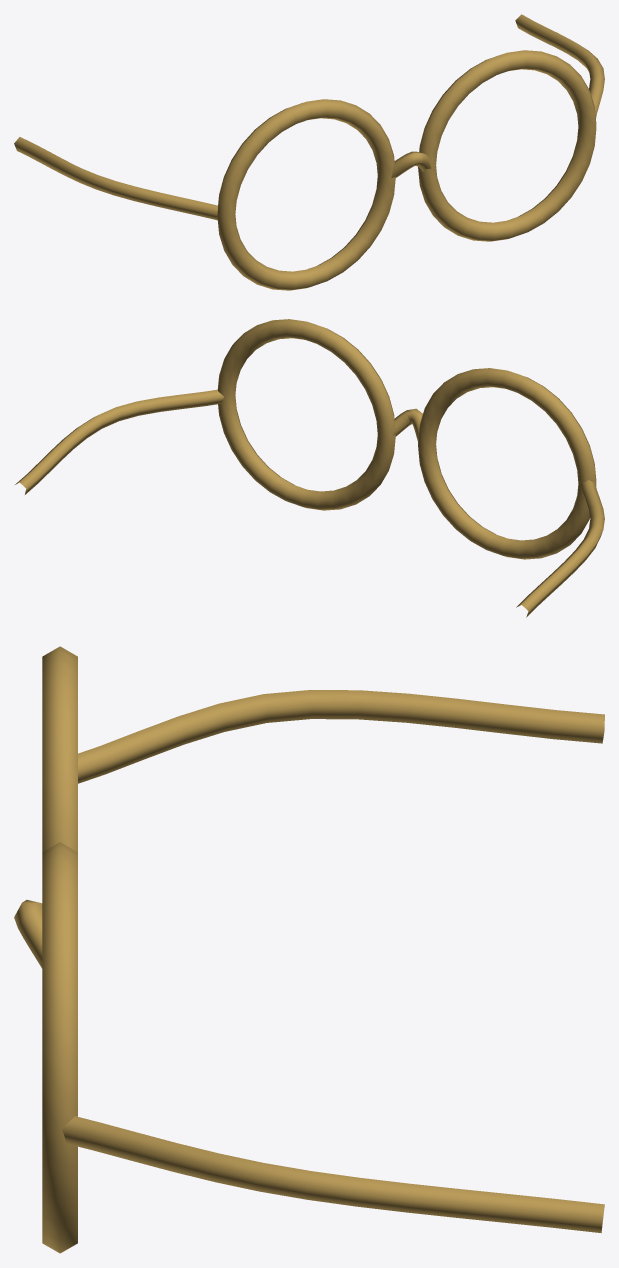
Rendered from glasses.glb.
The picture shows the model from 3 angles, top to bottom: view 1: azimuth 30°, elevation 25°; view 2: azimuth 150°, elevation 25°; view 3: azimuth 270°, elevation 25°; orthographic projection. The views are drawn at different scales.
Parts seen in each view (by area): view 1: Antique brass; view 2: Antique brass; view 3: Antique brass.
Part boxes in pixels (bbox=[...]): Antique brass: bbox=[14, 14, 604, 290]; Antique brass: bbox=[15, 319, 604, 617]; Antique brass: bbox=[14, 646, 604, 1253].
Size of the model in its own units: 0.4616 by 0.16 by 0.2295.
